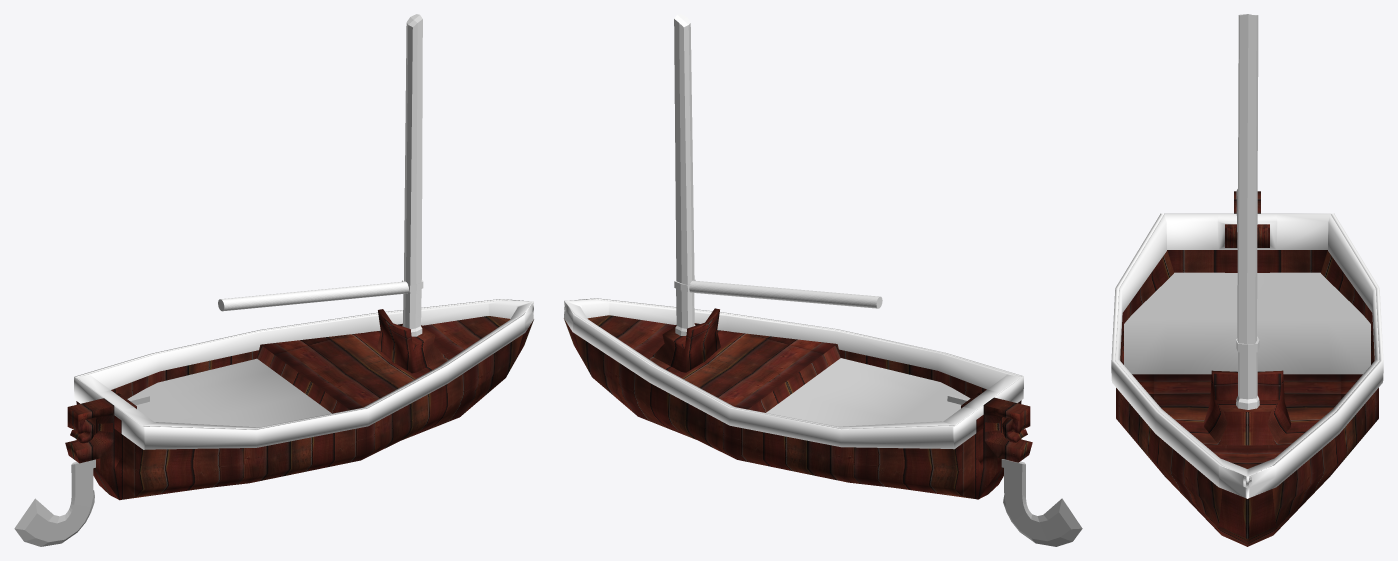
File: boat.obj
3 renders of one model, left to right at view 1: azimuth 30°, elevation 25°; view 2: azimuth 150°, elevation 25°; view 3: azimuth 270°, elevation 25°, orthographic. The views are drawn at different scales.
Parts seen in each view (by area): view 1: Kadlub, Maszt_Cube.002, Ster_Cube.001, bom; view 2: Kadlub, Maszt_Cube.002, Ster_Cube.001, bom; view 3: Kadlub, Maszt_Cube.002.
Part boxes in pixels (bbox=[...]): Kadlub: bbox=[65, 299, 534, 500]; Maszt_Cube.002: bbox=[402, 14, 423, 336]; Ster_Cube.001: bbox=[14, 394, 149, 546]; bom: bbox=[218, 281, 408, 311]; Kadlub: bbox=[563, 298, 1032, 499]; Maszt_Cube.002: bbox=[674, 14, 695, 335]; Ster_Cube.001: bbox=[947, 394, 1082, 546]; bom: bbox=[689, 280, 882, 308]; Kadlub: bbox=[1111, 191, 1383, 546]; Maszt_Cube.002: bbox=[1236, 14, 1259, 409].
Bounding box in the file's own units: 5.12 × 4.15 × 1.85.
